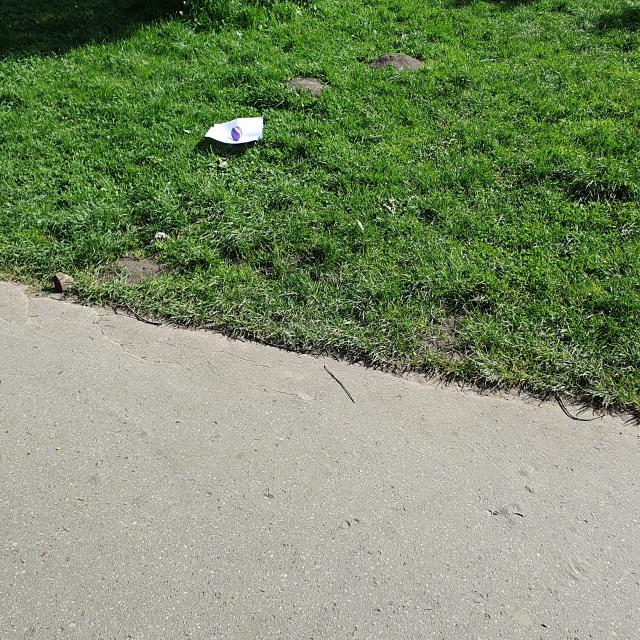purple: (231, 126, 243, 141)
